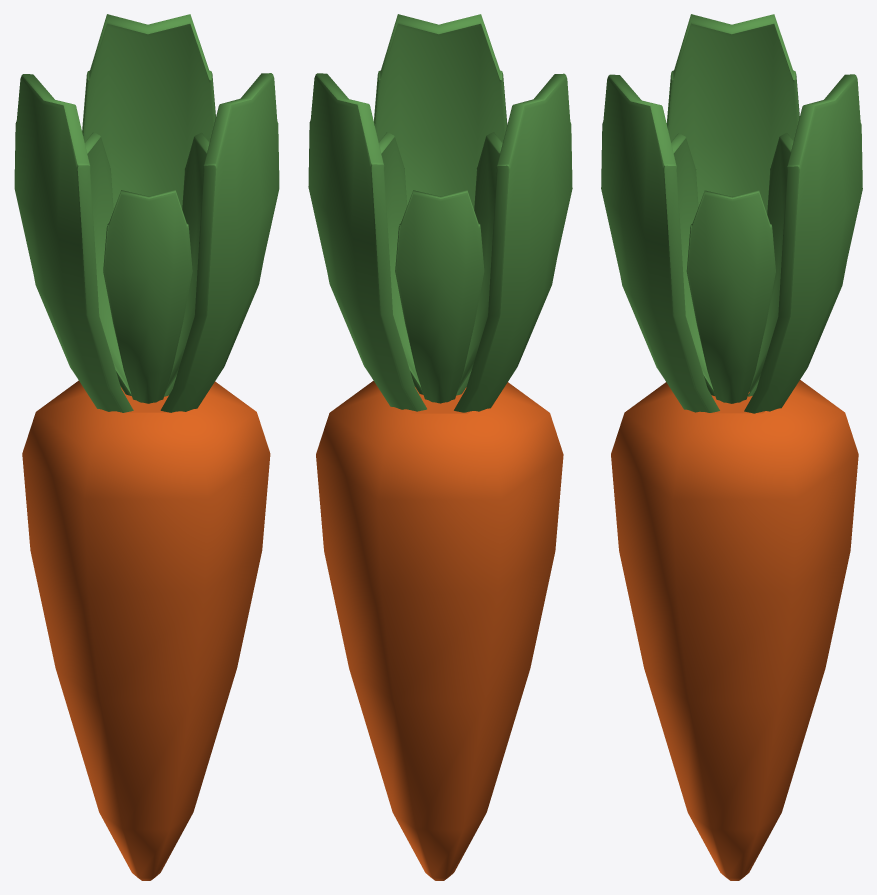
Rendered from my carrot.fbx.
3 views of the same model, side by side, from view 1: azimuth 30°, elevation 25°; view 2: azimuth 150°, elevation 25°; view 3: azimuth 270°, elevation 25° (orthographic).
Visible parts, largest first — view 1: Cone001; view 2: Cone001; view 3: Cone001.
Part boxes in pixels (x1,y1,x2,y2): Cone001: (14,14,279,880); Cone001: (308,14,572,880); Cone001: (601,14,862,880).
Bounding box in the file's own units: 133 × 479 × 140.
